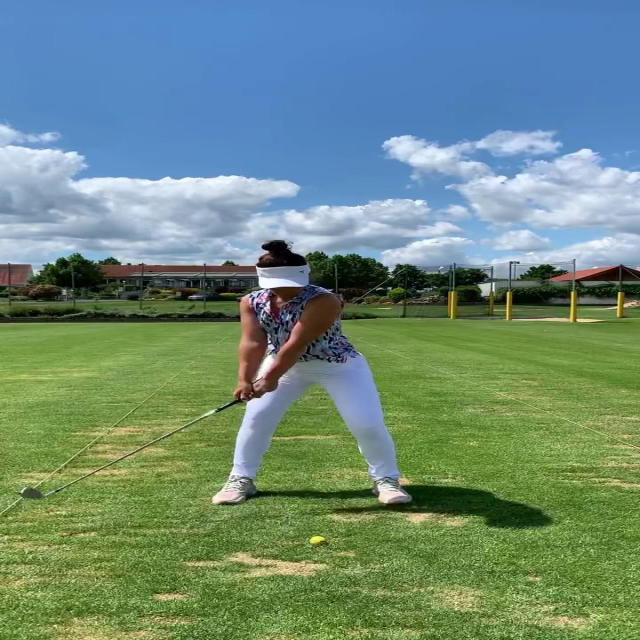ClubHandle: (13, 387, 263, 505)
ClubHead: (16, 487, 46, 500)
GolfBall: (310, 536, 327, 545)
